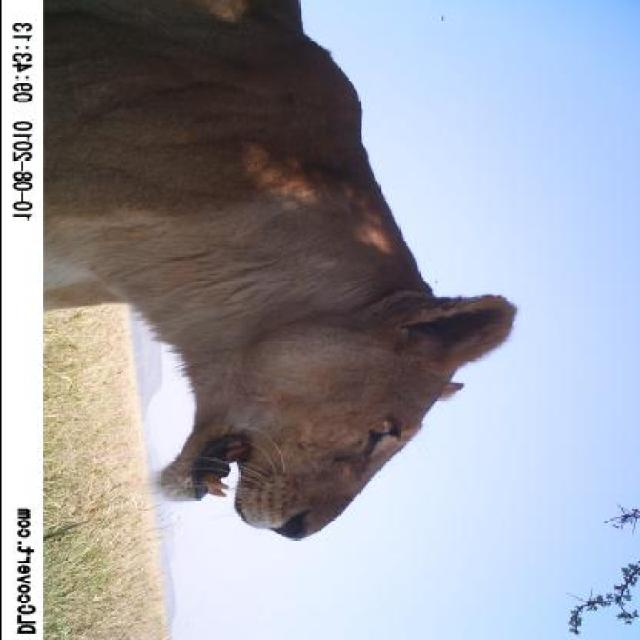Lion: (51, 1, 529, 548)
